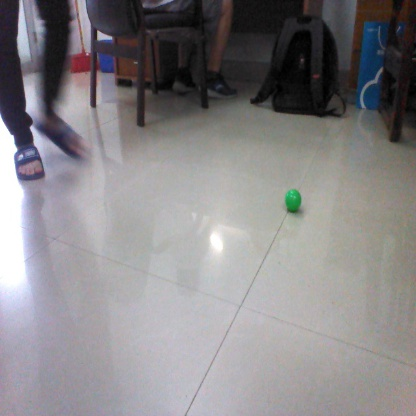ball: (282, 186, 306, 214)
